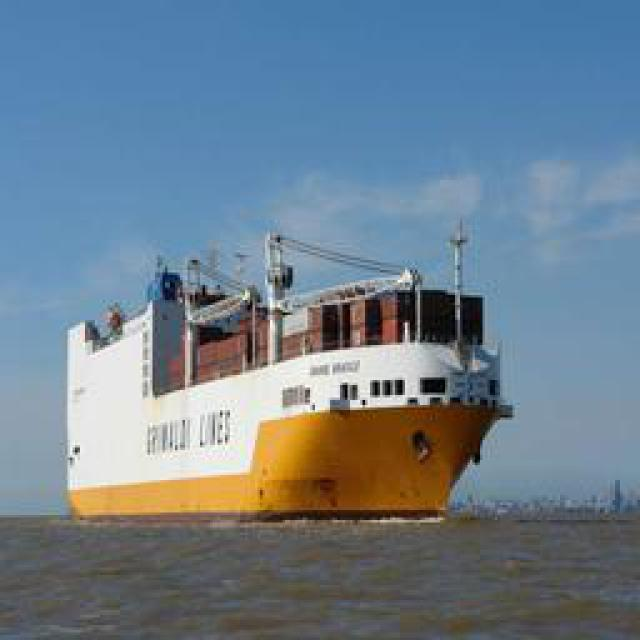Ship: (66, 214, 509, 519)
